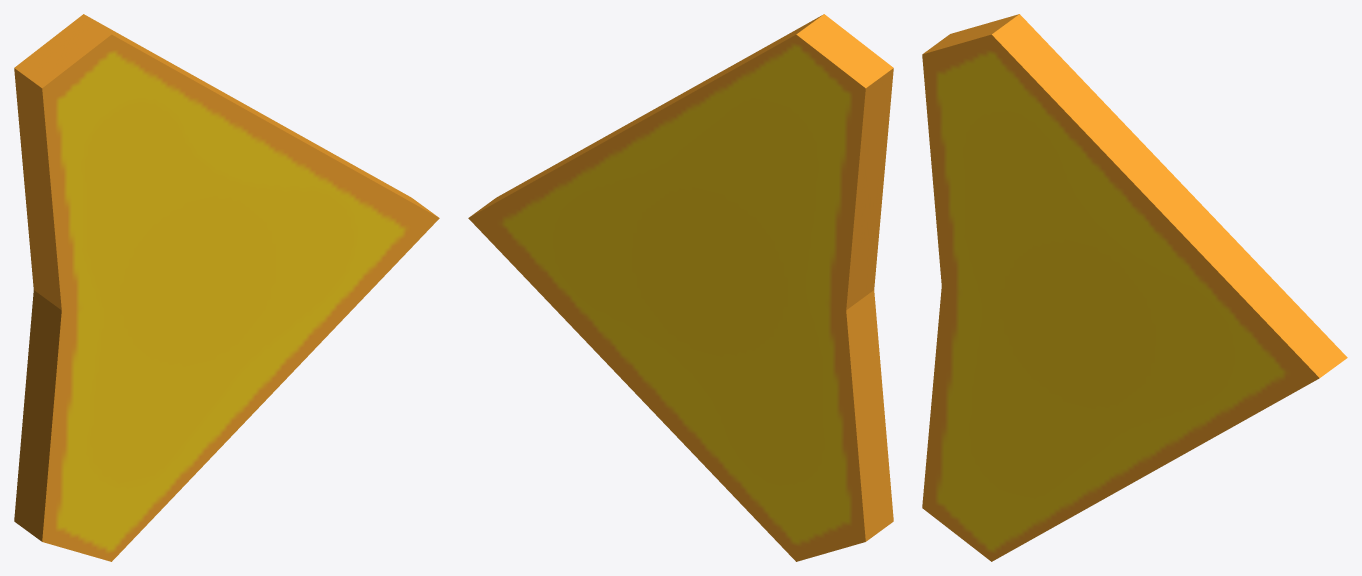
The model's file is ArrowButton.fbx.
3 views of the same model, side by side, from view 1: azimuth 30°, elevation 25°; view 2: azimuth 150°, elevation 25°; view 3: azimuth 330°, elevation 25° (orthographic).
Parts seen in each view (by area): view 1: ArrowButton; view 2: ArrowButton; view 3: ArrowButton.
Boxes of the visible parts, x1,y1,x2,y2 form: ArrowButton: (14,14,439,561); ArrowButton: (468,14,893,561); ArrowButton: (922,14,1347,561).
Bounding box in the file's own units: 0.5183 × 0.657 × 0.0633.
